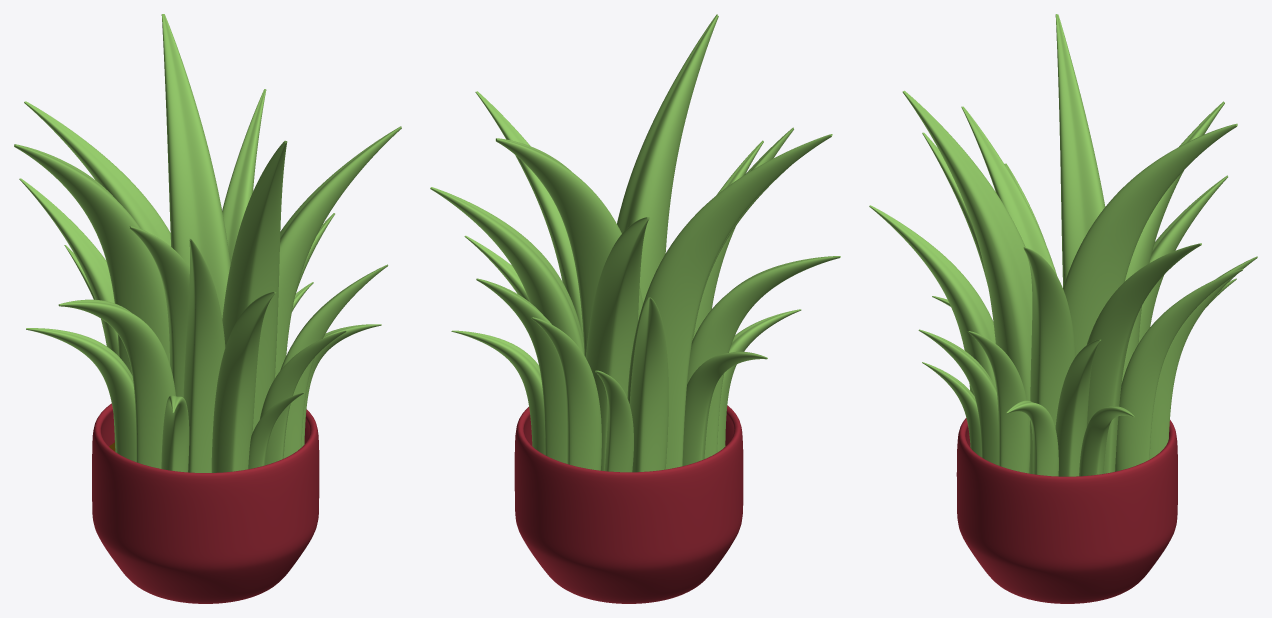
The model's file is f_saks 1.fbx.
The picture shows the model from 3 angles, left to right: view 1: azimuth 30°, elevation 25°; view 2: azimuth 150°, elevation 25°; view 3: azimuth 270°, elevation 25°; orthographic projection. The views are drawn at different scales.
Visible parts, largest first — view 1: Circle.001, Vert.001; view 2: Circle.001, Vert.001; view 3: Circle.001, Vert.001.
Part boxes in pixels (left/top/right/bottom): Circle.001: left=14, top=14, right=401, bottom=472; Vert.001: left=92, top=403, right=319, bottom=603; Circle.001: left=430, top=14, right=840, bottom=472; Vert.001: left=514, top=405, right=743, bottom=603; Circle.001: left=869, top=14, right=1257, bottom=476; Vert.001: left=956, top=418, right=1177, bottom=603.
Size of the model in its own units: 1130 by 1451 by 1055.
